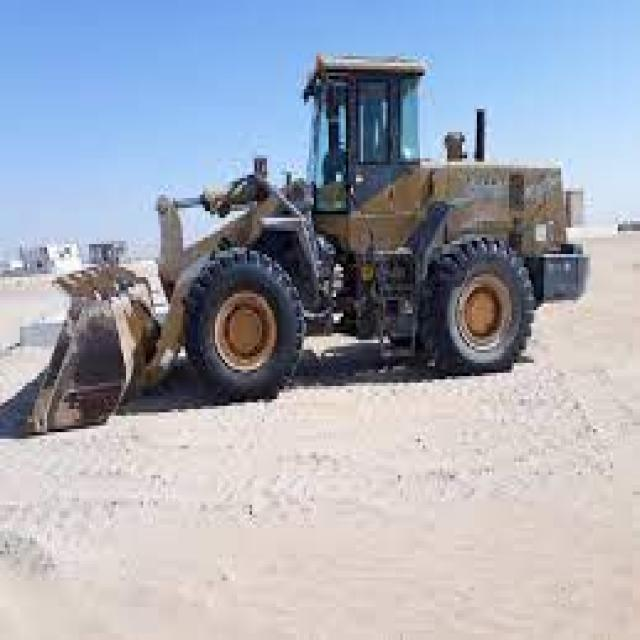buldozerpayloadergrader: (24, 66, 582, 433)
